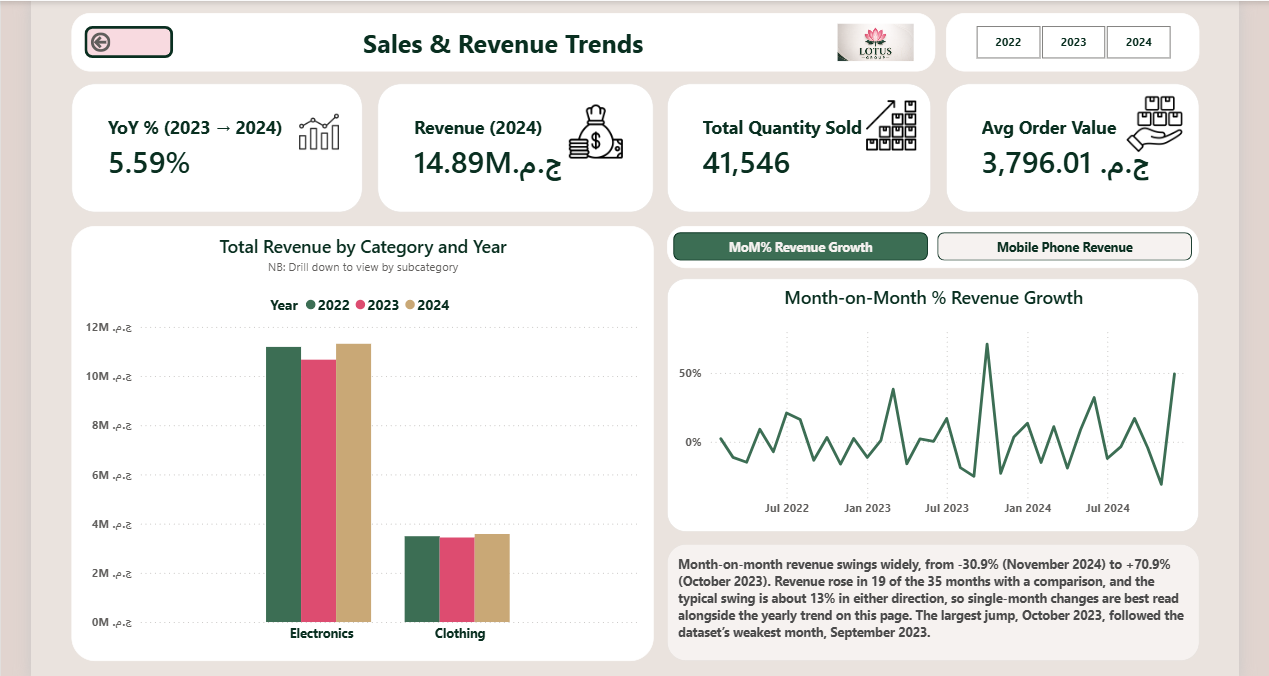

What the dashboard file says about the page in this screenshot:
{"tool":"powerbi","page":{"name":"Sales & Revenue Trends","canvas":[1280,720],"ordinal":1},"visuals":[{"type":"clusteredColumnChart","fields":{"Category":["dim_products.category","dim_products.subcategory"],"Y":["_Measures.Total Revenue"],"Series":["dim_date.year"]},"box":[42.9,238.6,617.2,461.3],"z":0},{"type":"cardVisual","fields":{"Data":["_Measures.Revenue YoY % (Latest Year)"]},"box":[42.9,87.5,308.6,136.8],"z":3000},{"type":"cardVisual","fields":{"Data":["_Measures.Total Quantity Sold"]},"box":[674.4,87.5,279.9,136.8],"z":4000},{"type":"cardVisual","fields":{"Data":["_Measures.Revenue (Latest Year)"]},"box":[367.4,87.5,292.7,136.8],"z":5000},{"type":"cardVisual","fields":{"Data":["_Measures.Average Order Value"]},"box":[970.3,87.5,268.8,136.8],"z":6000},{"type":"slicer","fields":{"Values":["dim_date.year"]},"box":[970.3,12.7,268.8,62],"z":7000},{"type":"lineStackedColumnComboChart","title":"Month-on-Month % Revenue Growth","fields":{"Y2":["_Measures.Revenue MoM %"],"Category":["dim_date.Month Start"]},"box":[674.6,293.6,564.1,268.9],"z":8000},{"type":"bookmarkNavigator","box":[674.6,239.2,564.1,44.5],"z":9000},{"type":"textbox","box":[674.4,575.8,564.7,124.1],"z":10000},{"type":"shape","box":[42.9,12.7,916.2,62],"z":11000},{"type":"actionButton","box":[54.1,23.9,100,40],"z":12000},{"type":"image","box":[270.4,109.8,70,57.3],"z":13000},{"type":"image","box":[558.3,109.8,81.1,57.3],"z":14000},{"type":"image","box":[881.2,103.4,62,57.3],"z":15000},{"type":"image","box":[1158,100.2,66.8,60.4],"z":16000},{"type":"image","box":[836.7,23.9,117.7,39.8],"z":17000}]}

Visuals, with their boxes on the page's 1280x720 design canvas (x1, y1, x2, y2). These are canvas units, not pixel positions in the 1269x676 screenshot, which may show the page scaled, cropped or inside an application window:
clusteredColumnChart - dim_products.category x dim_products.subcategory: [43,239,660,700]
cardVisual - _Measures.Revenue YoY % (Latest Year): [43,88,352,224]
cardVisual - _Measures.Total Quantity Sold: [674,88,954,224]
cardVisual - _Measures.Revenue (Latest Year): [367,88,660,224]
cardVisual - _Measures.Average Order Value: [970,88,1239,224]
slicer - dim_date.year: [970,13,1239,75]
"Month-on-Month % Revenue Growth" lineStackedColumnComboChart: [675,294,1239,562]
bookmarkNavigator: [675,239,1239,284]
textbox: [674,576,1239,700]
shape: [43,13,959,75]
actionButton: [54,24,154,64]
image: [270,110,340,167]
image: [558,110,639,167]
image: [881,103,943,161]
image: [1158,100,1225,161]
image: [837,24,954,64]
